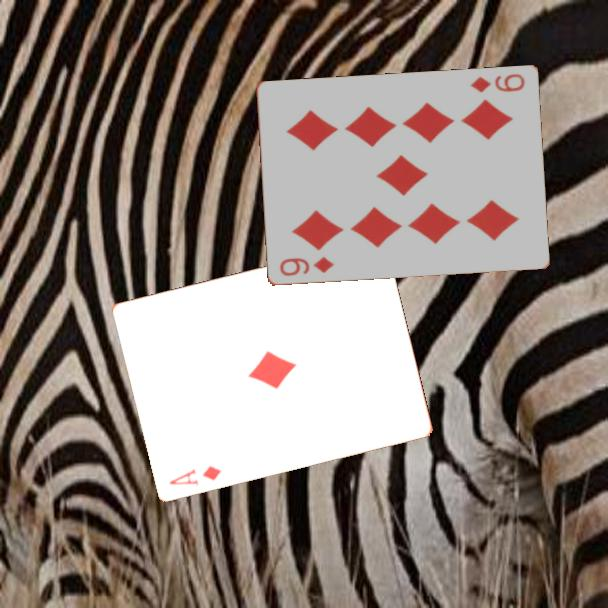d01: (166, 461, 224, 488)
d09: (276, 253, 336, 279), (467, 70, 527, 95)
